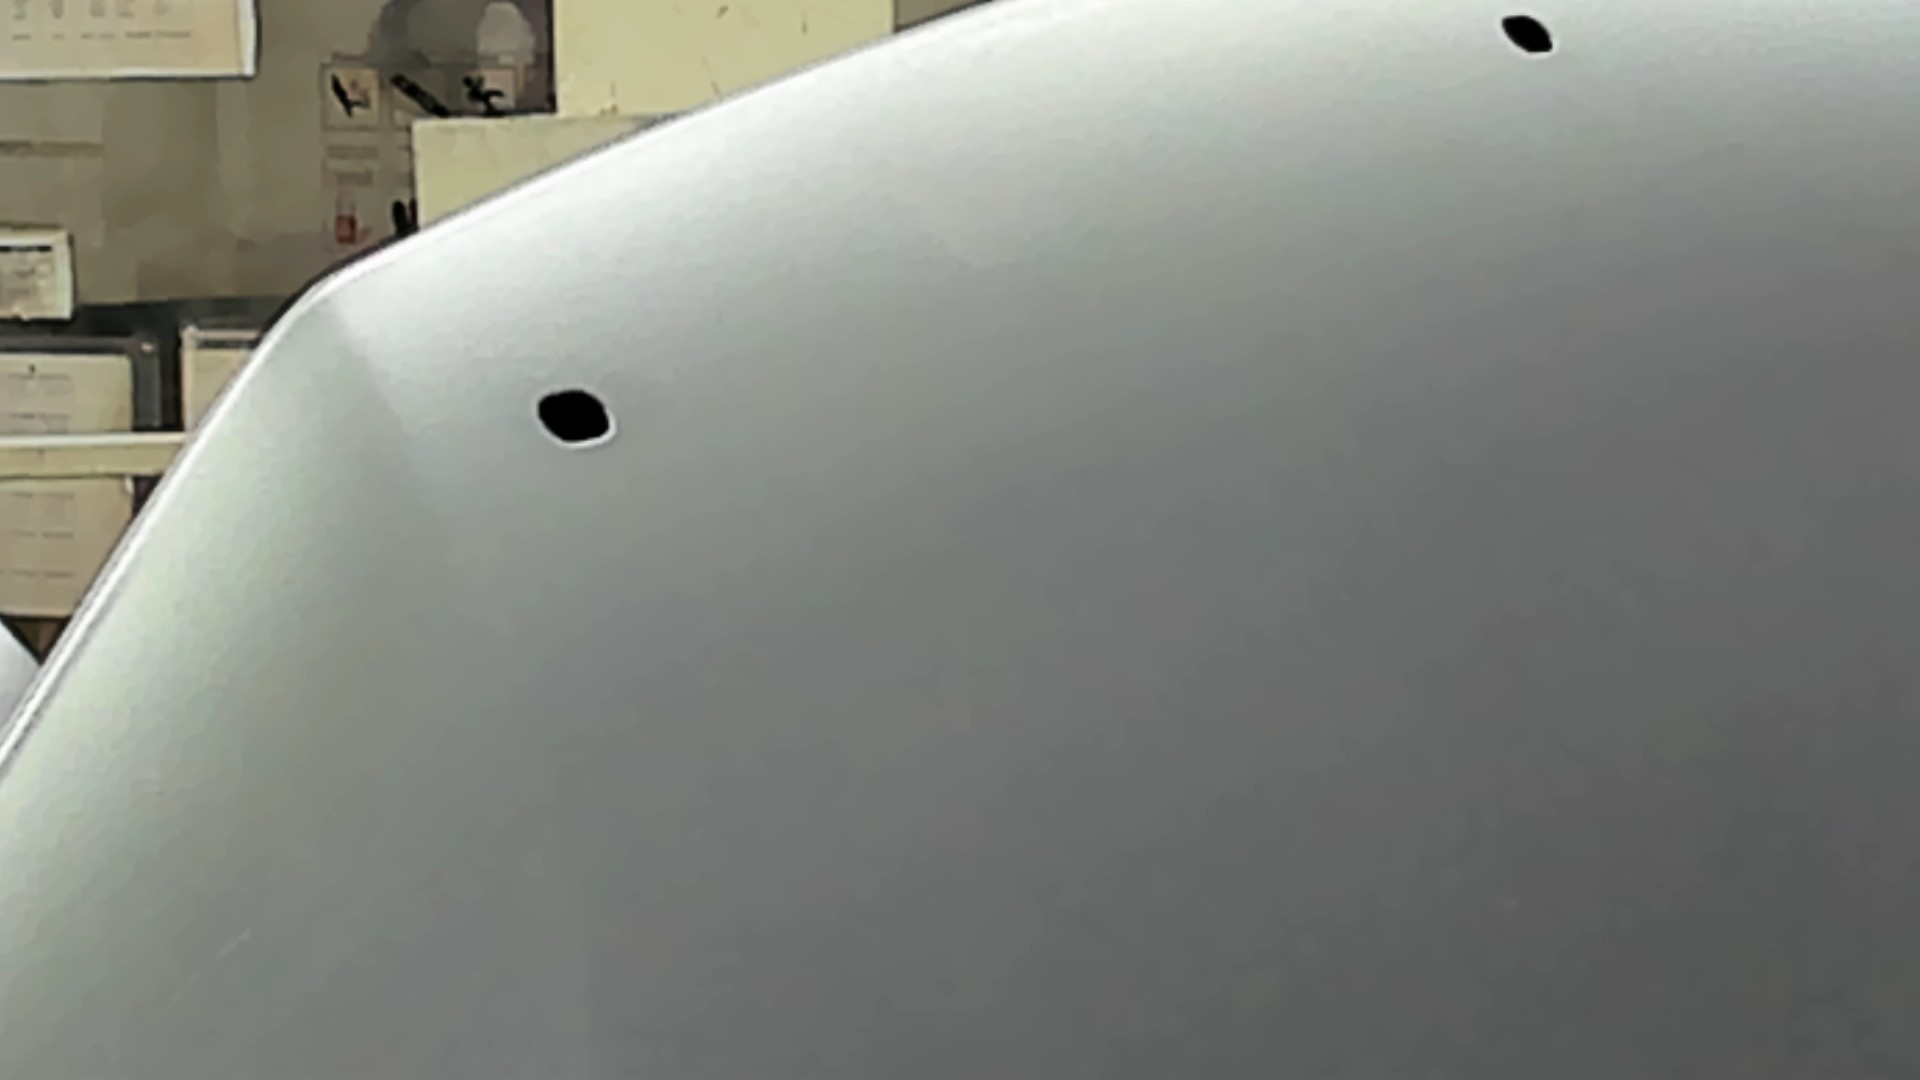amorfo: (533, 378, 616, 454), (1493, 11, 1561, 65)
